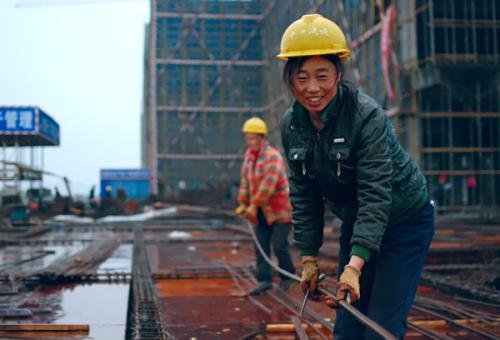helmet: (269, 2, 356, 117), (242, 114, 269, 150)
